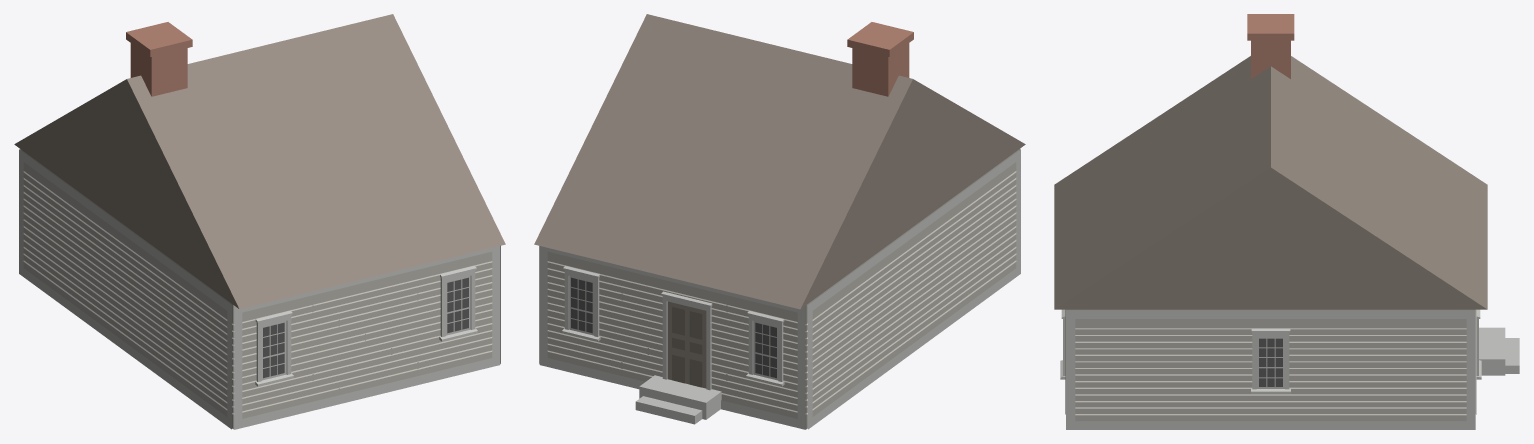
The model's file is recon_1835_north_d4_072__inferred_1835.glb.
3 renders of one model, left to right at view 1: azimuth 30°, elevation 25°; view 2: azimuth 150°, elevation 25°; view 3: azimuth 270°, elevation 25°, orthographic. The views are drawn at different scales.
Visible parts, largest first — view 1: recon_1835_north_d4_072__inferred_1835; view 2: recon_1835_north_d4_072__inferred_1835; view 3: recon_1835_north_d4_072__inferred_1835.
Boxes of the visible parts, left/top/right/bottom form: recon_1835_north_d4_072__inferred_1835: left=14, top=14, right=505, bottom=429; recon_1835_north_d4_072__inferred_1835: left=534, top=14, right=1025, bottom=429; recon_1835_north_d4_072__inferred_1835: left=1054, top=14, right=1519, bottom=429.
Size of the model in its own units: 6.33 by 6.81 by 9.72.
